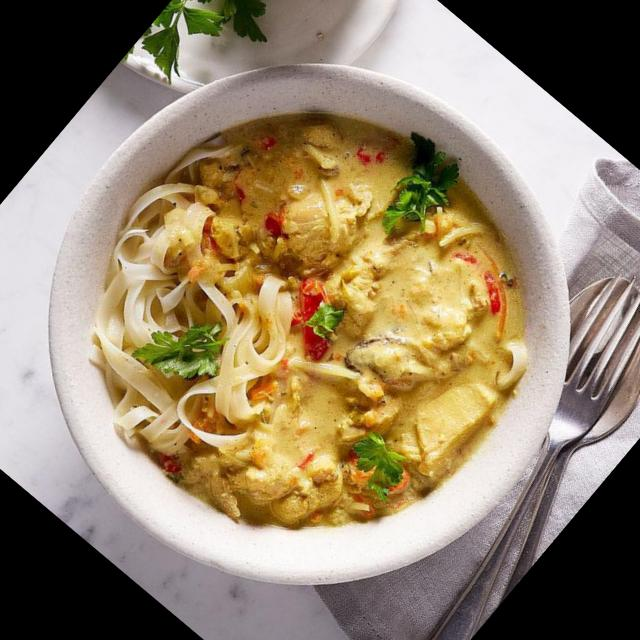chicken: (48, 68, 591, 613)
